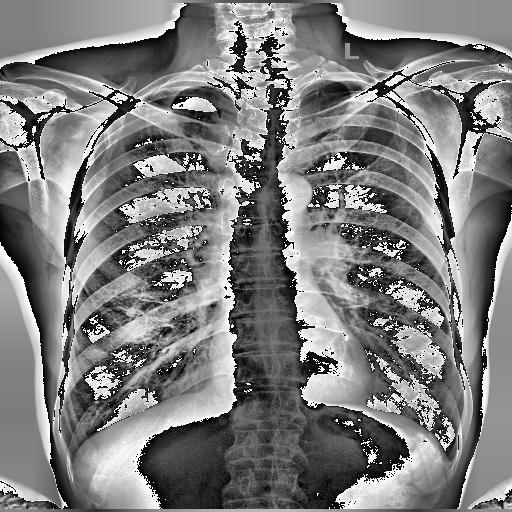0- Aortic enlargement: (260, 173, 314, 211), (270, 171, 314, 214)
11- Pleural thickening: (152, 78, 218, 92), (155, 78, 214, 92)
5- ILD: (90, 286, 174, 348), (107, 217, 172, 251)
8- Nodule-Mass: (126, 308, 138, 318)
